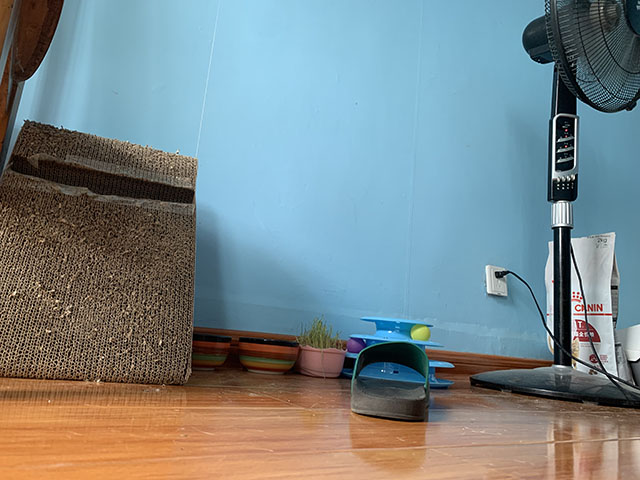slippers: (349, 340, 434, 423)
wire: (494, 242, 640, 410)
